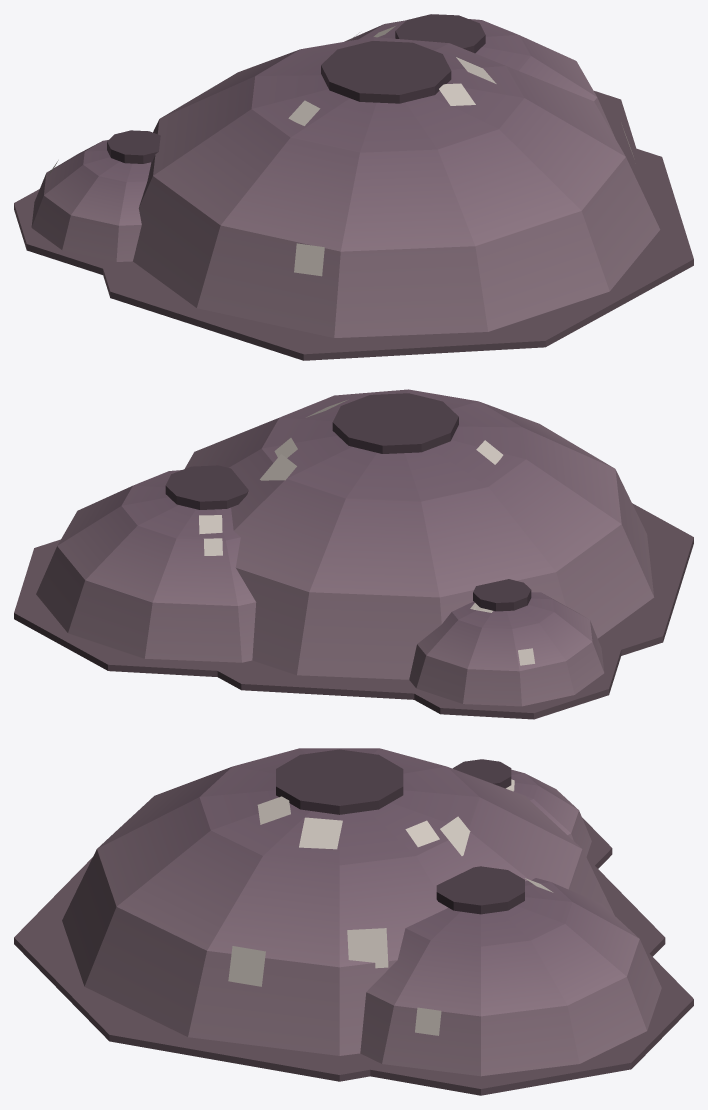
Rendered from spore_pod_v3.glb.
3 views of the same model, one above another, from view 1: azimuth 30°, elevation 25°; view 2: azimuth 150°, elevation 25°; view 3: azimuth 270°, elevation 25° (orthographic). The views are drawn at different scales.
Parts seen in each view (by area): view 1: world; view 2: world; view 3: world.
Boxes of the visible parts, x1,y1,x2,y2 form: world: (14,14,693,360); world: (14,389,693,719); world: (14,748,693,1095).
Bounding box in the file's own units: 1 × 0.262 × 0.9704.
